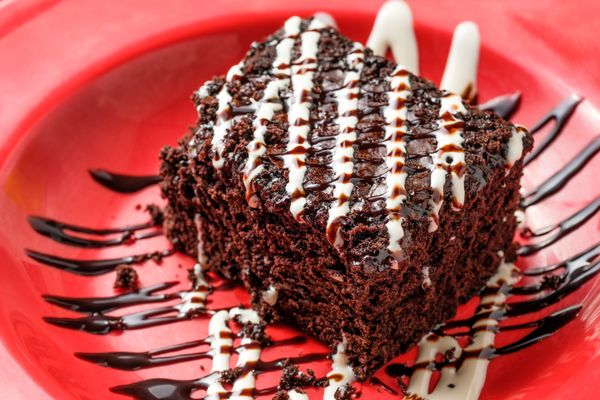sushi: (151, 12, 531, 379)
